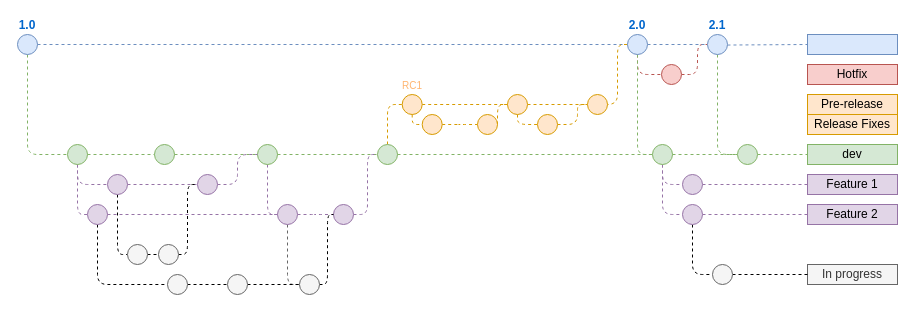
The diagram is 915 pixels wide and 312 high, and some of its shapes have lost their labels. The box of each missing label's shape, as (x1, y1, x2, y2) in pixels:
Main: (806, 34, 898, 54)
RC2: (506, 94, 528, 114)
RC3: (586, 94, 608, 114)
